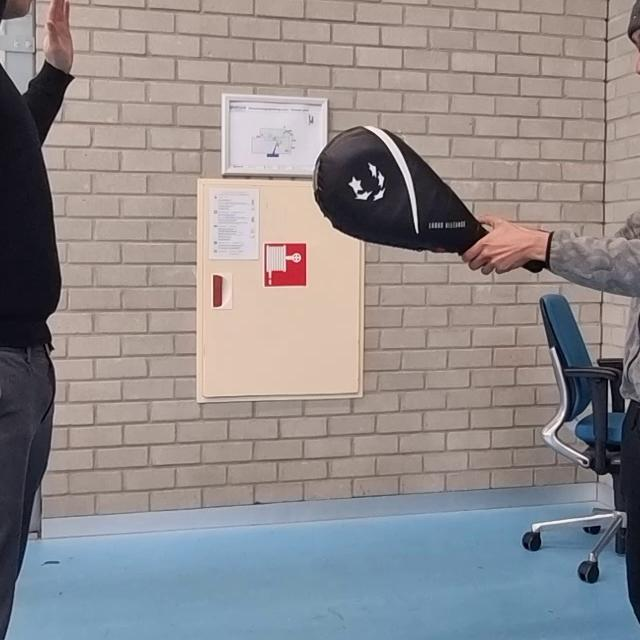paddle: (314, 125, 489, 253)
